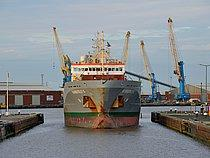Ship: (61, 27, 148, 132)
